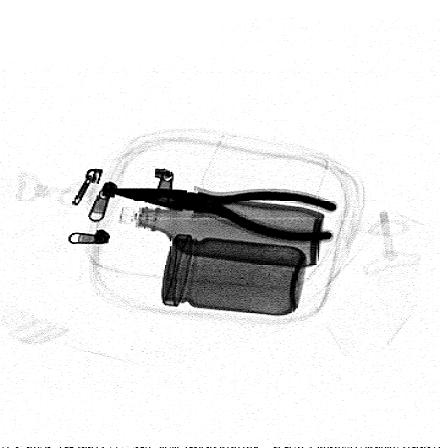Pliers: (109, 188, 341, 241)
